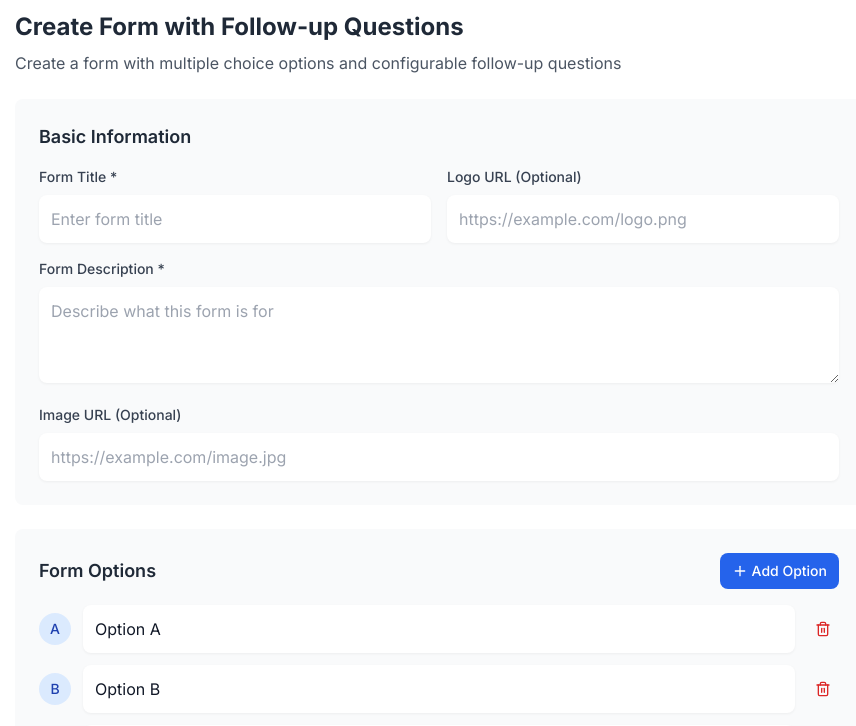
FormWithFollowUpCreator › Options Management › should add new option when add button is clicked
What coordinates should you click on to do the following:
click the button "Add Option"
I would click on:
 (779, 571)
Its box is [720,553,839,589].
(page scrolled)
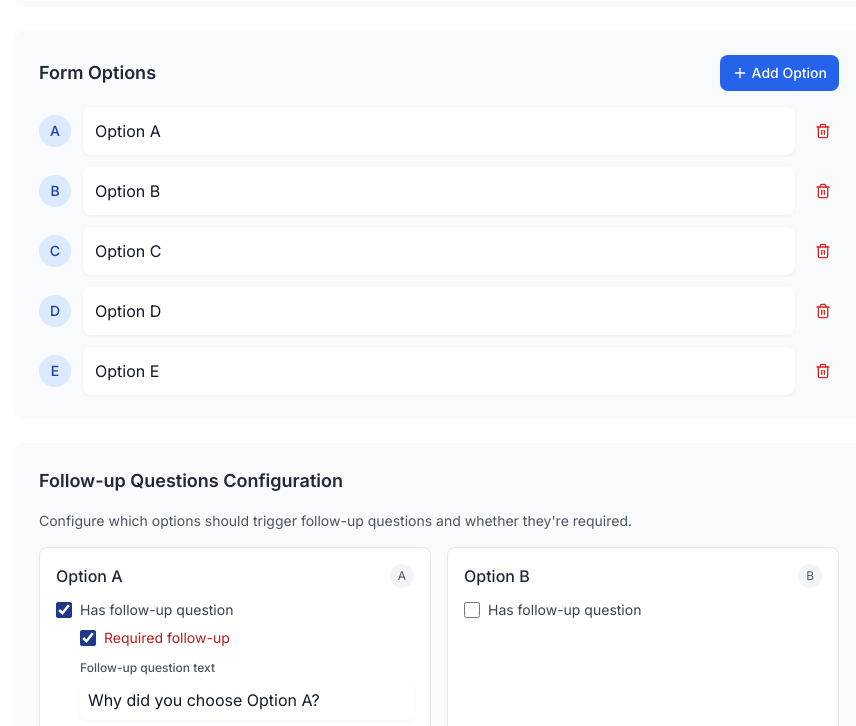
Expected: the 5th field showing "Option E" is shown, [83,347,795,395]
